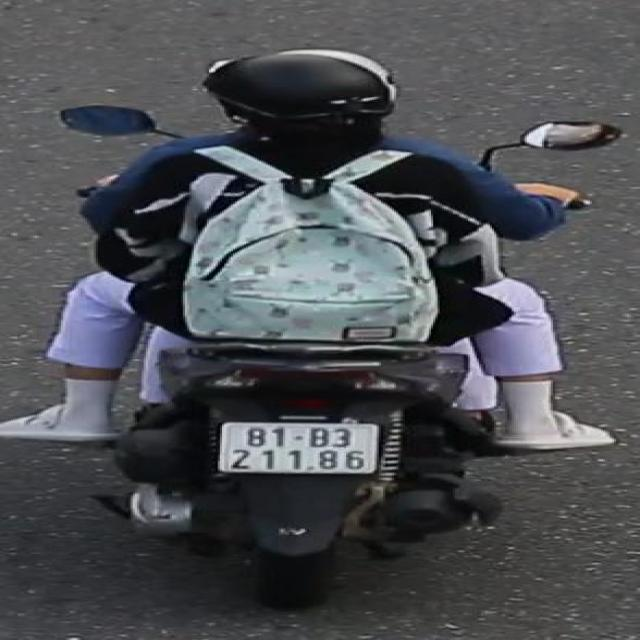LP: (206, 411, 397, 495)
helmet: (204, 56, 400, 142)
